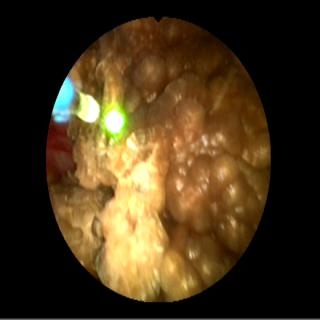fiber: (54, 79, 73, 121)
laser: (102, 102, 126, 140), (78, 94, 99, 121)
stone: (52, 19, 269, 299)
